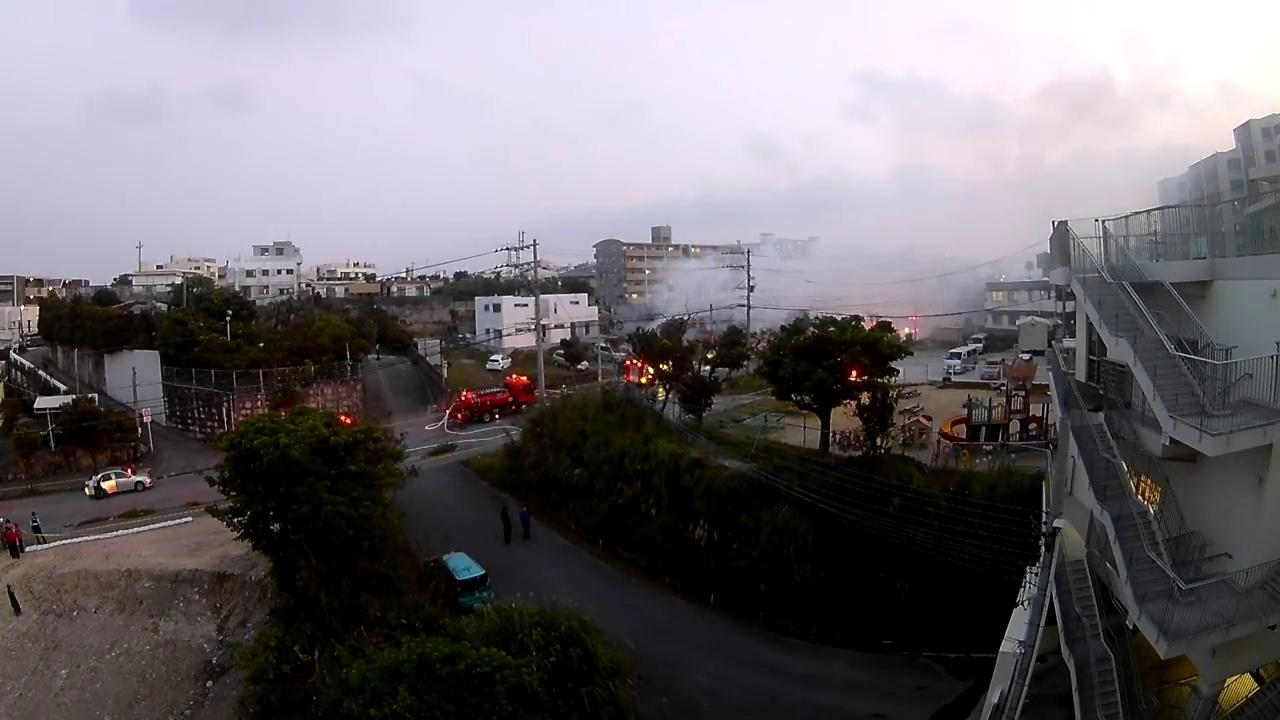smoke: (672, 258, 966, 298)
